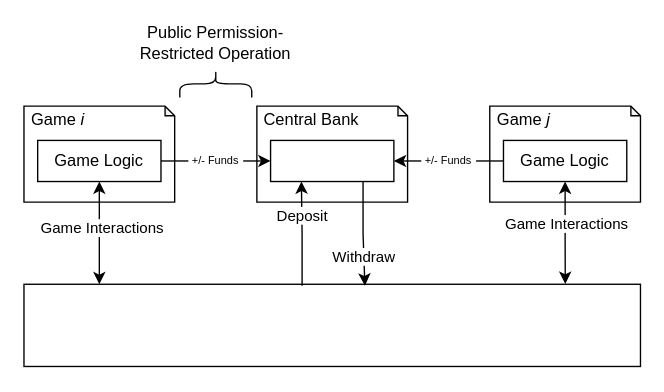
The diagram is 664 pixels wide and 392 high, and some of its shapes have lost their labels. The centre of each missing label's shape, as x and y in pixels:
Banking Logic: (331,160)
User Wallet: (331,324)
